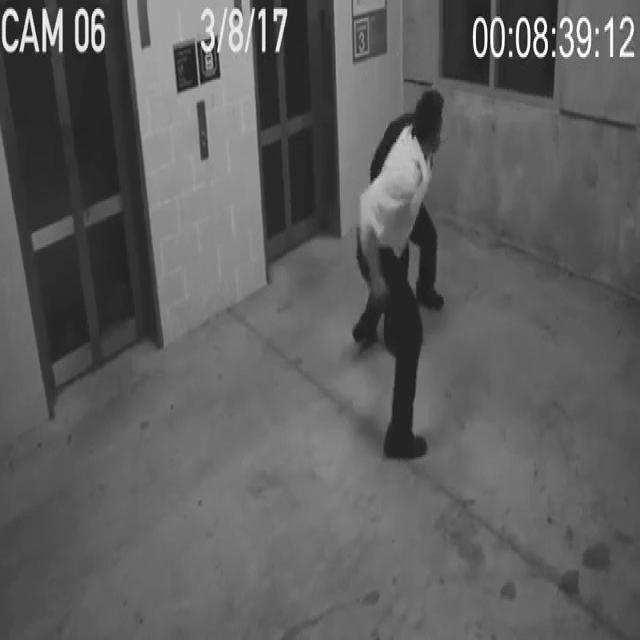fight: (334, 73, 491, 474)
